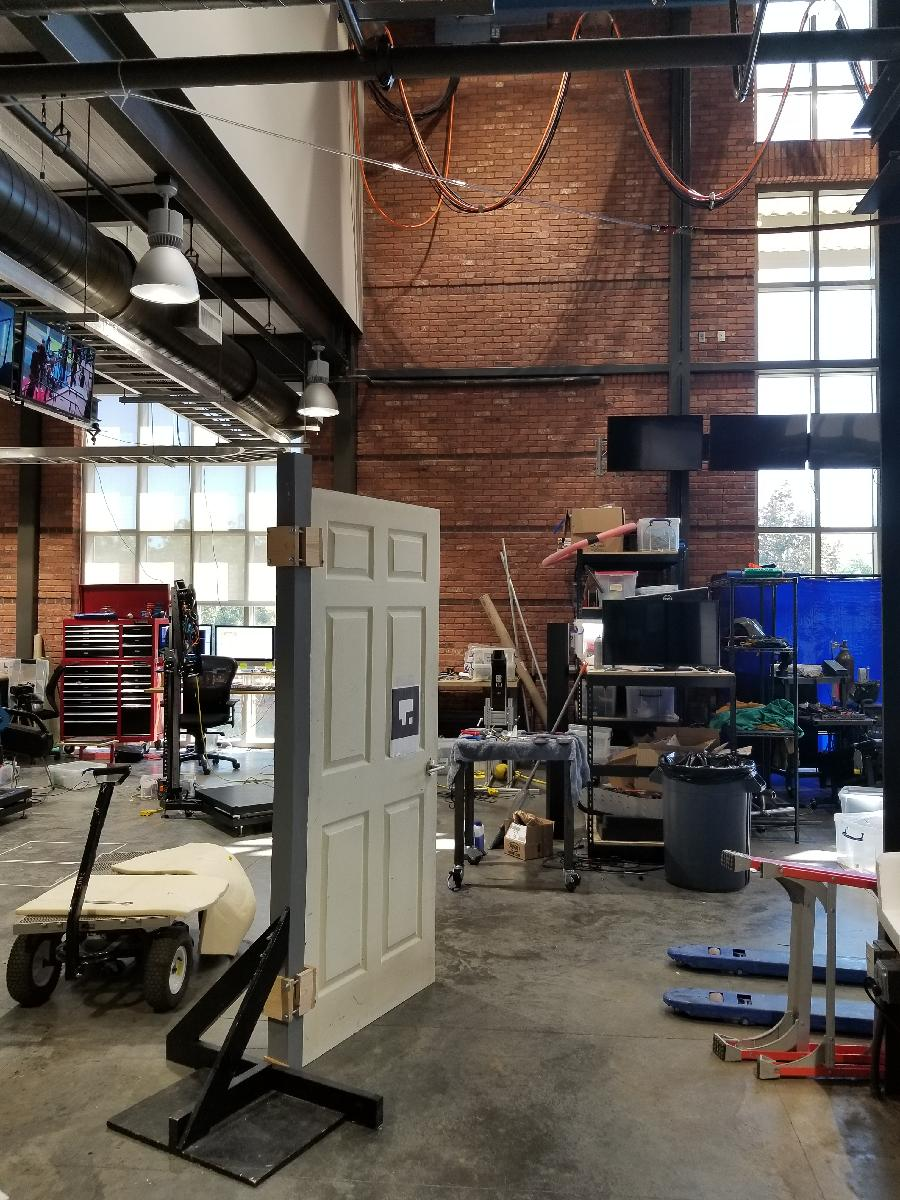door: (297, 483, 442, 1072)
doorHandle: (424, 757, 449, 781)
